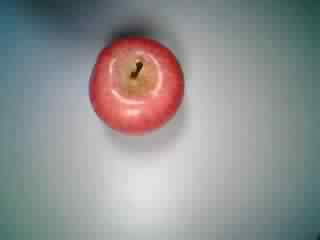apple: (82, 36, 187, 138)
